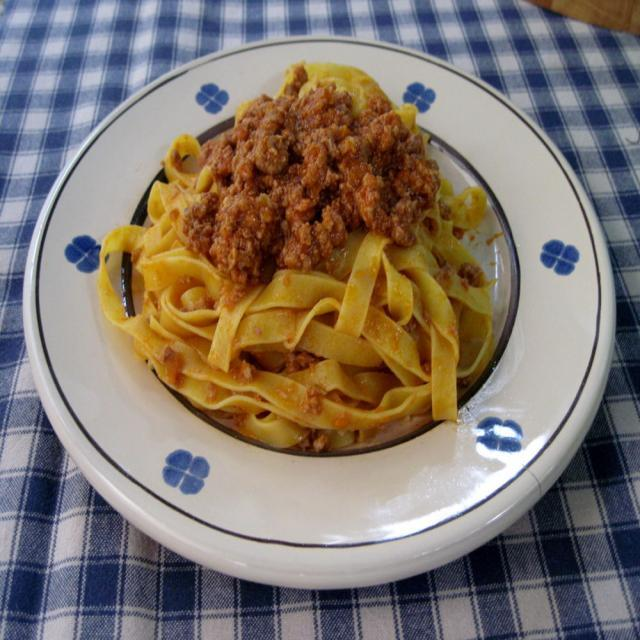Pasta al ragu: (96, 39, 531, 465)
